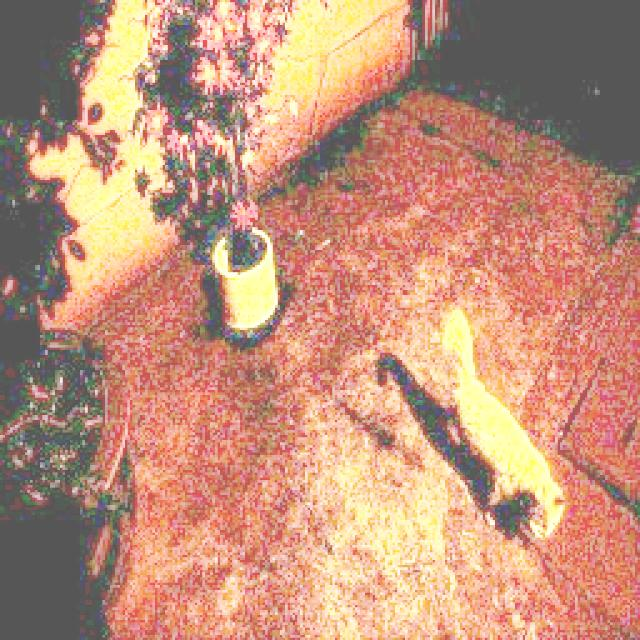cat: (414, 291, 586, 554)
